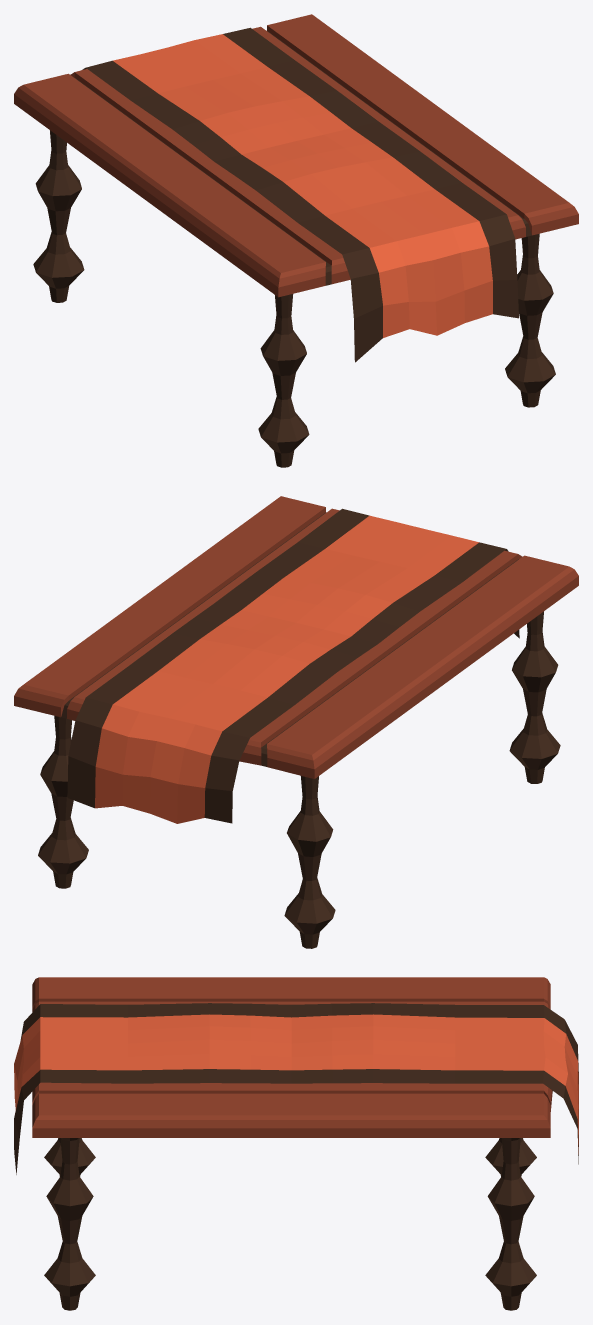
File: Table.fbx
3 renders of one model, top to bottom at view 1: azimuth 30°, elevation 25°; view 2: azimuth 150°, elevation 25°; view 3: azimuth 270°, elevation 25°, orthographic. The views are drawn at different scales.
Visible parts, largest first — view 1: Cube.009; view 2: Cube.009; view 3: Cube.009.
Boxes of the visible parts, x1,y1,x2,y2 form: Cube.009: (14, 14, 578, 467); Cube.009: (14, 496, 578, 948); Cube.009: (14, 977, 578, 1310).
Size of the model in its own units: 365 by 249 by 606.
